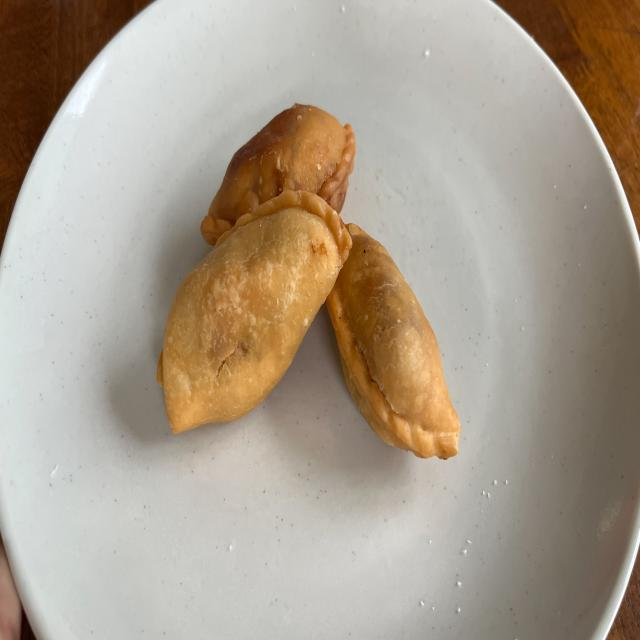karipap: (158, 191, 352, 433), (326, 224, 460, 460), (201, 104, 356, 244)
